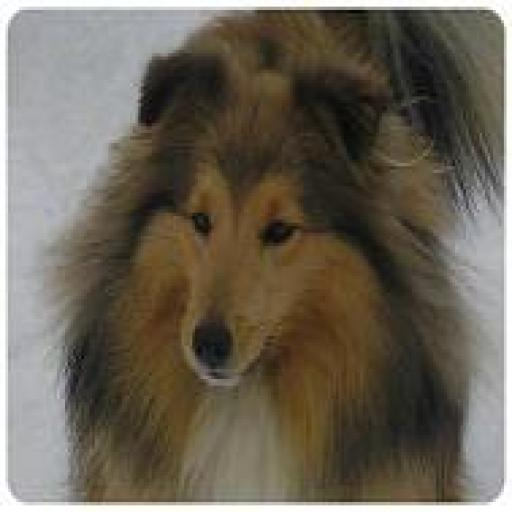dog_face: (134, 52, 381, 384)
